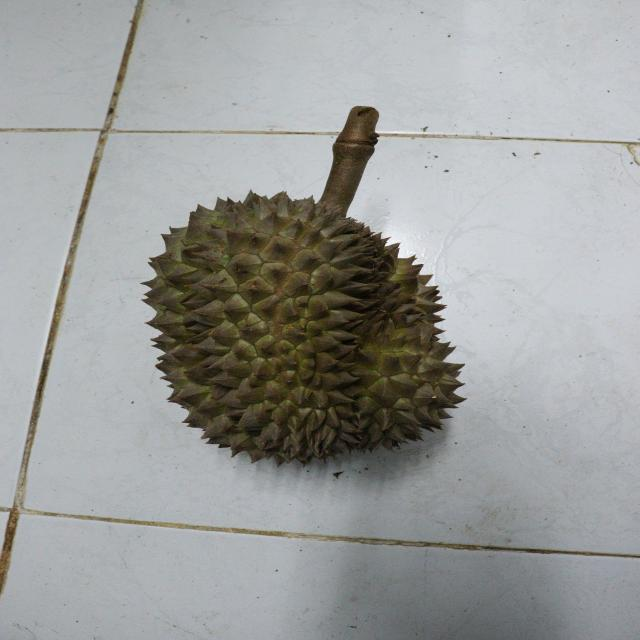mature: (143, 190, 479, 470)
